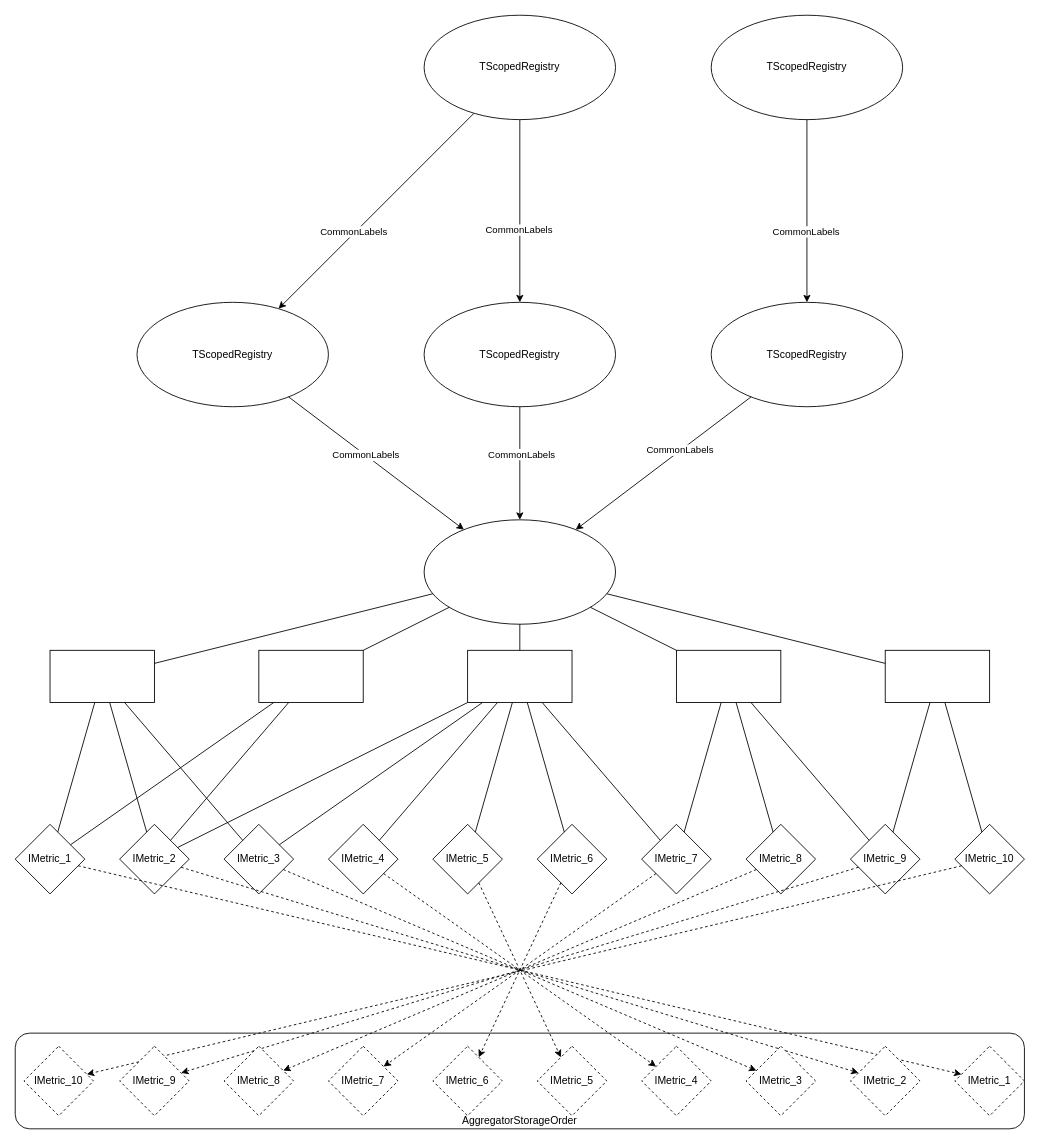
Some shapes in this 1040 by 1144 pixel diagram are drawn without their labels. Each missing label, with the centre of its shape:
"TAggregator_1" belongs at pixel 101 676.
"TAggregator_2" belongs at pixel 310 676.
"TAggregator_3" belongs at pixel 519 676.
"TAggregator_4" belongs at pixel 728 676.
"TAggregator_5" belongs at pixel 937 676.
"TMainRegistry" belongs at pixel 519 571.
